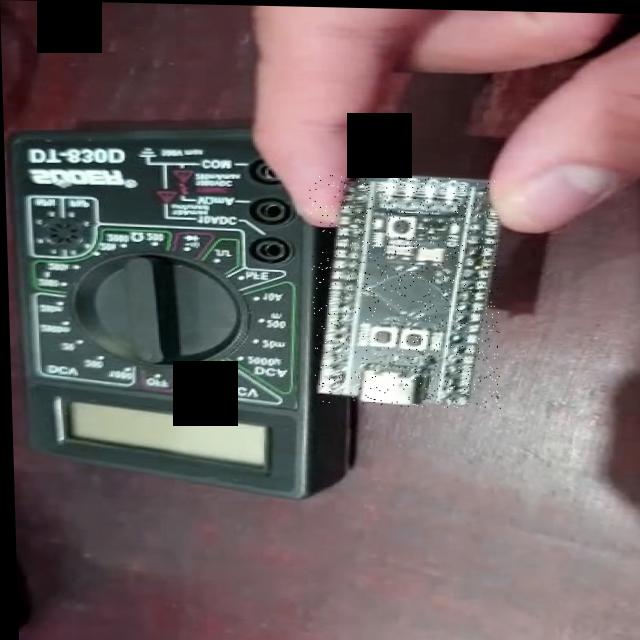multimeter: (9, 140, 298, 473)
stm32: (308, 173, 499, 407)
